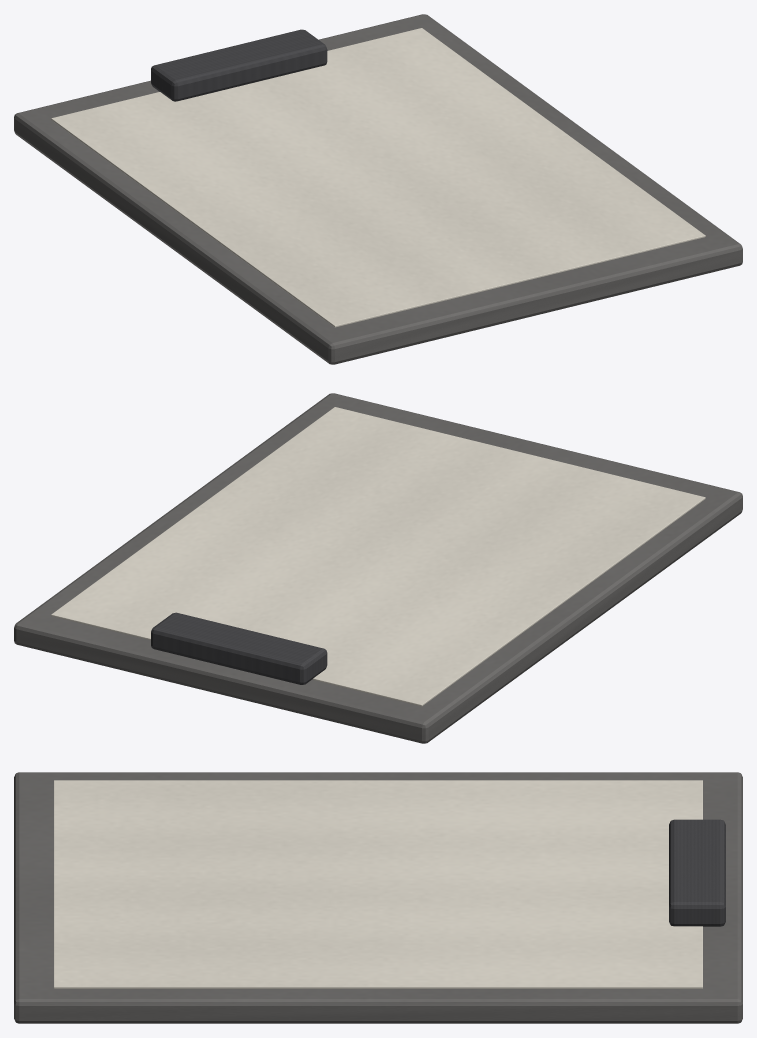
Rendered from engineering_clipboard.glb.
3 renders of one model, top to bottom at view 1: azimuth 30°, elevation 25°; view 2: azimuth 150°, elevation 25°; view 3: azimuth 270°, elevation 25°, orthographic. The views are drawn at different scales.
Parts seen in each view (by area): view 1: paper.002, board.001, clip; view 2: paper.002, board.001, clip; view 3: paper.002, board.001, clip.
Boxes of the visible parts, left/top/right/bottom form: paper.002: left=51, top=28, right=705, bottom=327; board.001: left=14, top=14, right=742, bottom=364; clip: left=151, top=29, right=327, bottom=101; paper.002: left=51, top=407, right=705, bottom=706; board.001: left=14, top=393, right=742, bottom=743; clip: left=151, top=612, right=327, bottom=684; paper.002: left=54, top=780, right=702, bottom=988; board.001: left=14, top=772, right=742, bottom=1023; clip: left=669, top=819, right=725, bottom=926.
Size of the model in its own units: 0.24 by 0.024 by 0.32.
Materials: 3 (3 with a texture image).
